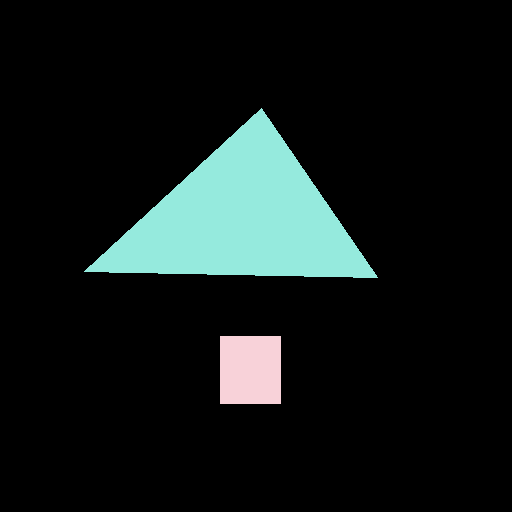rectangle: (220, 336, 280, 403)
triangle: (84, 108, 377, 277)
